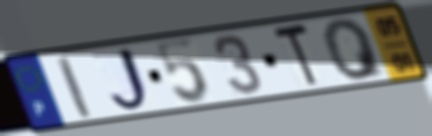3: (213, 32, 265, 98)
5: (152, 36, 212, 106)
I: (52, 54, 96, 121)
J: (107, 45, 156, 114)
Q: (320, 16, 390, 83)
T: (269, 21, 321, 91)
